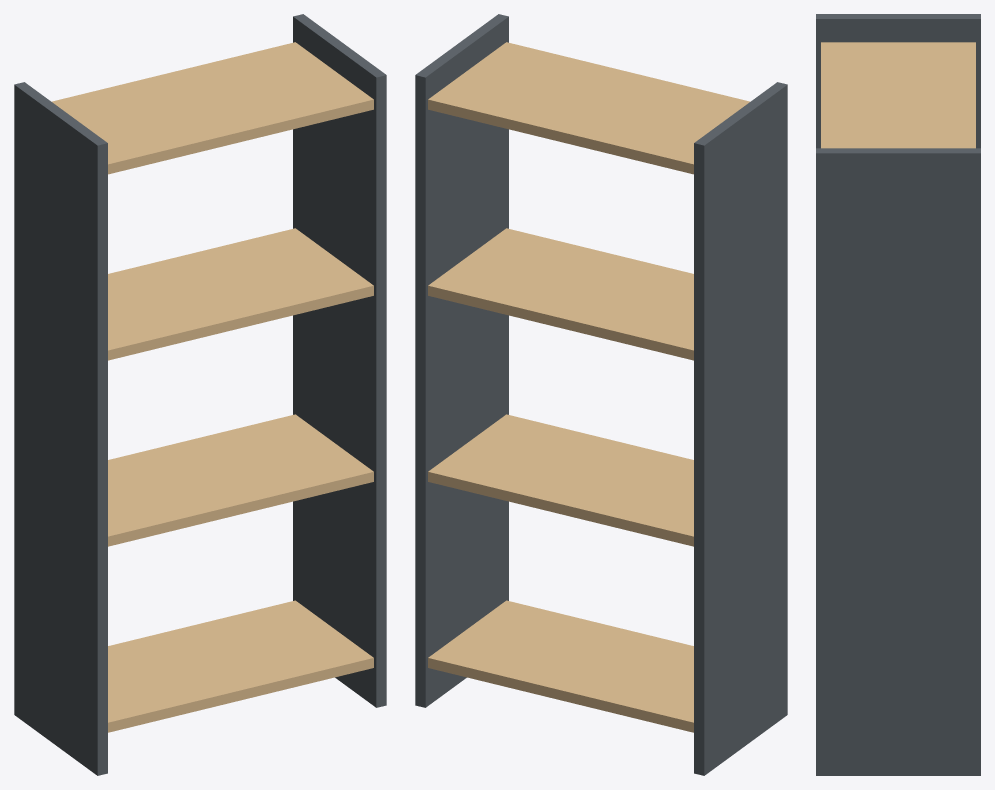
File: office_storage___organization_asset_sheet_88.glb
3 views of the same model, side by side, from view 1: azimuth 30°, elevation 25°; view 2: azimuth 150°, elevation 25°; view 3: azimuth 270°, elevation 25° (orthographic).
Parts seen in each view (by area): view 1: Cube; view 2: Cube; view 3: Cube.
Boxes of the visible parts, left/top/right/bottom form: Cube: left=14, top=14, right=386, bottom=775; Cube: left=415, top=14, right=787, bottom=775; Cube: left=816, top=14, right=980, bottom=775.
Size of the model in its own units: 0.84 by 1.75 by 0.42.
